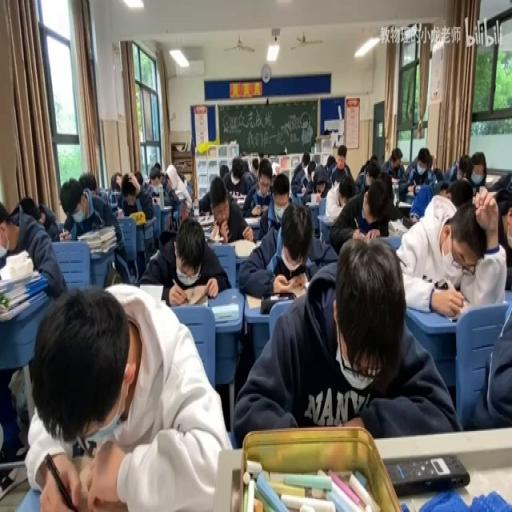calculator: (246, 284, 306, 308), (0, 289, 43, 320), (228, 236, 258, 258), (210, 300, 238, 322), (138, 282, 163, 304), (179, 292, 209, 307), (380, 234, 402, 250), (196, 213, 214, 226), (403, 186, 416, 202), (230, 193, 246, 205), (244, 214, 261, 224), (174, 189, 188, 201), (204, 232, 218, 243), (58, 230, 70, 239), (114, 209, 124, 219), (397, 199, 410, 206), (158, 204, 173, 210), (306, 198, 320, 204), (390, 176, 398, 186), (152, 196, 159, 204), (301, 184, 306, 194)
paper: (26, 277, 230, 508), (233, 234, 453, 440), (396, 186, 504, 314), (140, 213, 226, 303), (62, 175, 128, 279), (466, 282, 511, 430), (0, 199, 64, 299), (330, 172, 394, 245), (194, 169, 254, 238), (118, 169, 156, 225), (401, 145, 436, 201), (245, 161, 277, 222), (158, 165, 186, 228), (380, 148, 406, 186), (355, 154, 380, 192), (330, 145, 352, 186), (446, 178, 474, 209), (488, 171, 512, 199), (298, 161, 316, 196), (17, 195, 39, 220), (78, 169, 96, 195), (456, 154, 472, 182), (272, 175, 289, 200), (197, 188, 212, 214), (109, 171, 122, 195), (339, 183, 352, 205), (314, 165, 326, 188), (447, 158, 459, 180), (432, 166, 444, 184), (240, 156, 250, 174), (133, 168, 143, 186), (219, 162, 229, 179), (325, 155, 335, 171), (151, 161, 161, 176), (232, 168, 242, 183), (270, 161, 280, 176), (251, 155, 259, 172), (429, 152, 434, 171), (302, 158, 309, 169), (371, 154, 378, 164), (159, 170, 166, 180), (258, 152, 264, 161)
person: (385, 452, 470, 494), (402, 214, 416, 228), (446, 314, 458, 322)
